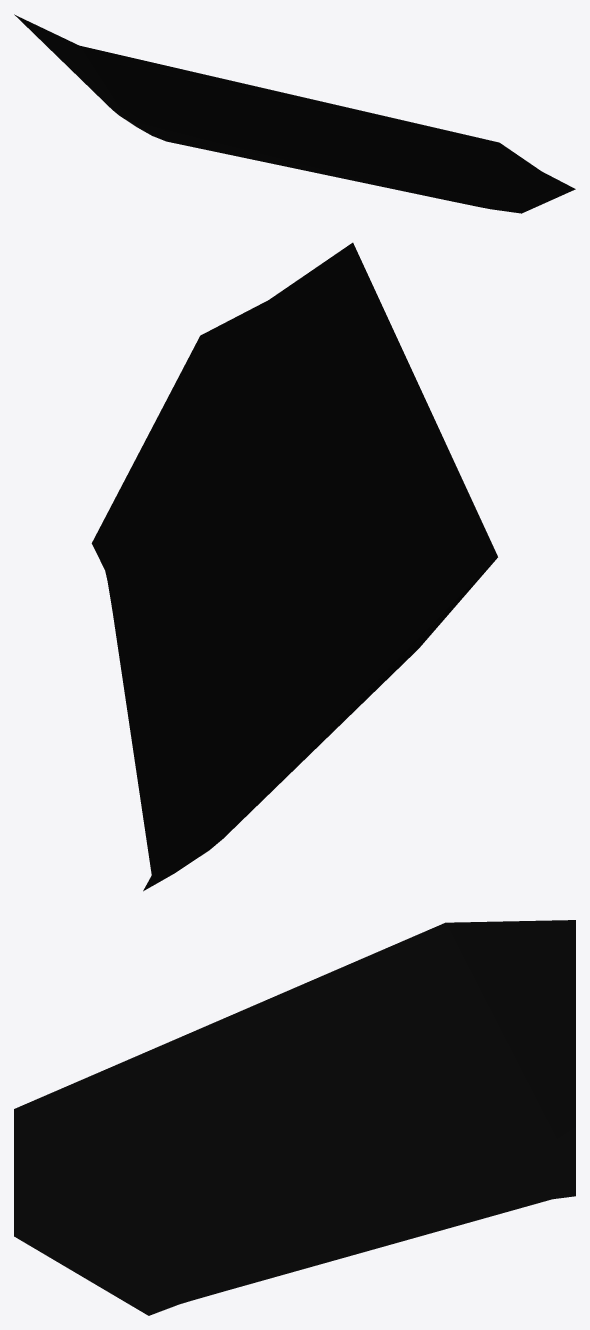
3 views of the same model, one above another, from view 1: azimuth 30°, elevation 25°; view 2: azimuth 150°, elevation 25°; view 3: azimuth 270°, elevation 25° (orthographic). The views are drawn at different scales.
Bounding box in the file's own units: 2.53 × 1.15 × 2.95.
2 materials, 2 textured.
